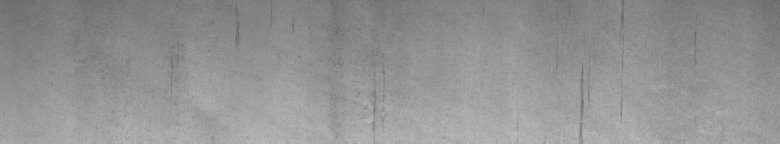ka: (576, 4, 624, 136)
